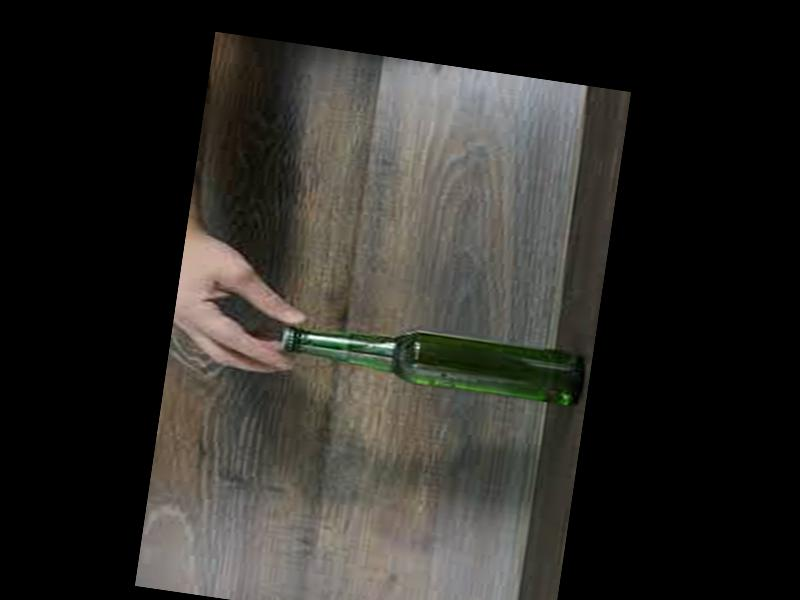Beer: (276, 309, 585, 407)
